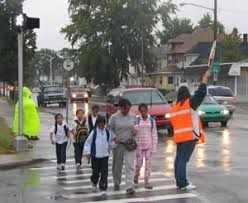car: (105, 87, 171, 134), (198, 86, 237, 126), (37, 84, 66, 106), (69, 86, 90, 102)
crosswalk: (29, 159, 195, 201)
person: (169, 68, 210, 189), (107, 99, 138, 193), (84, 116, 115, 194), (133, 103, 157, 188), (50, 113, 71, 169), (72, 109, 89, 168), (23, 86, 40, 139), (87, 105, 98, 128), (13, 102, 18, 132)
pole: (14, 13, 26, 150)
